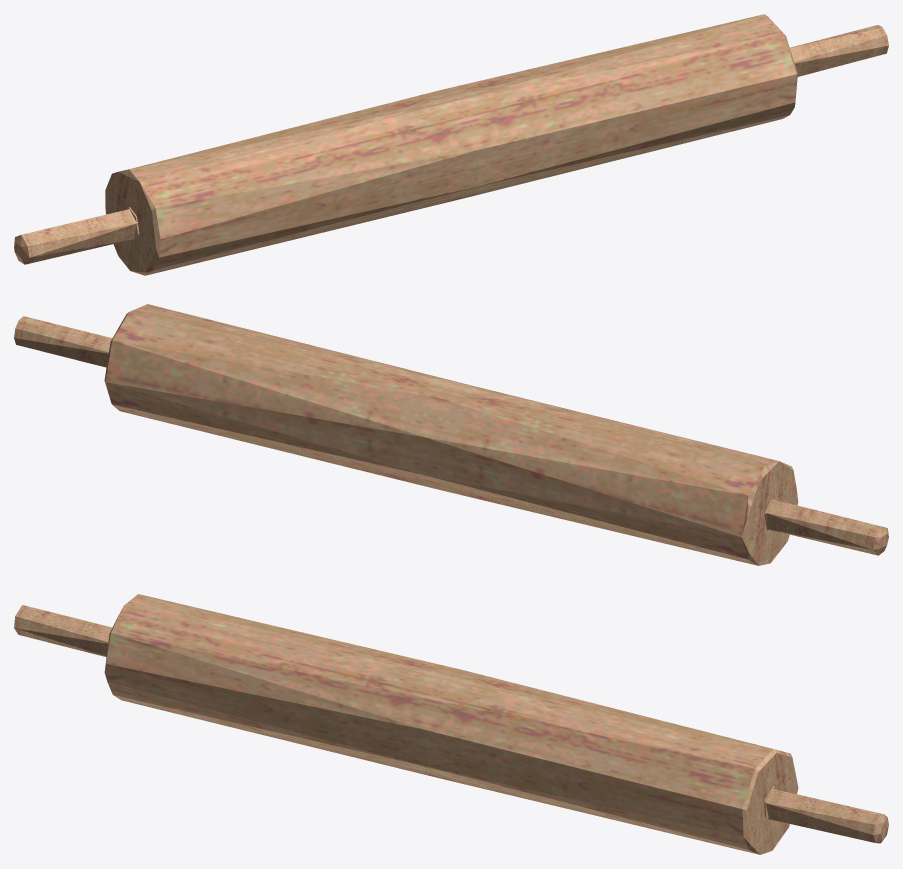
Rendered from LowPolyRollingPin.fbx.
3 renders of one model, top to bottom at view 1: azimuth 30°, elevation 25°; view 2: azimuth 150°, elevation 25°; view 3: azimuth 330°, elevation 25°, orthographic.
Visible parts, largest first — view 1: Cylinder; view 2: Cylinder; view 3: Cylinder.
Boxes of the visible parts, x1=… form: Cylinder: x1=14, y1=14, x2=888, y2=275; Cylinder: x1=14, y1=304, x2=888, y2=565; Cylinder: x1=14, y1=594, x2=888, y2=854.
Bounding box in the file's own units: 2366 × 257 × 262.
